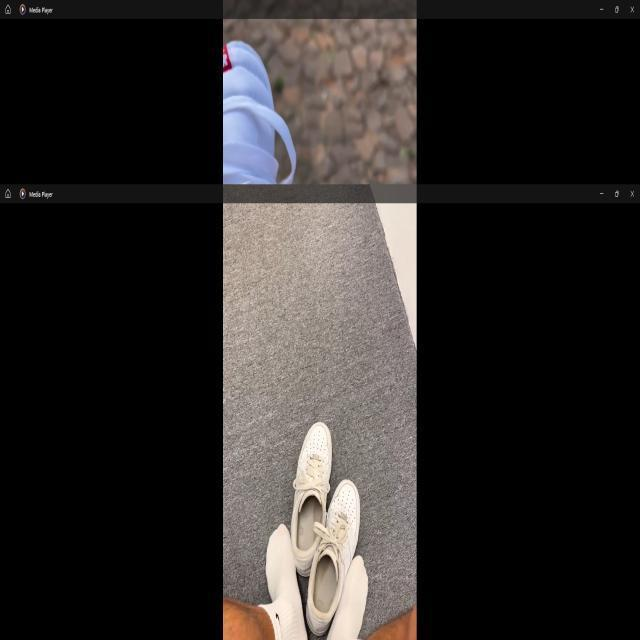nike original air force: (306, 479, 360, 637), (290, 422, 332, 577)
